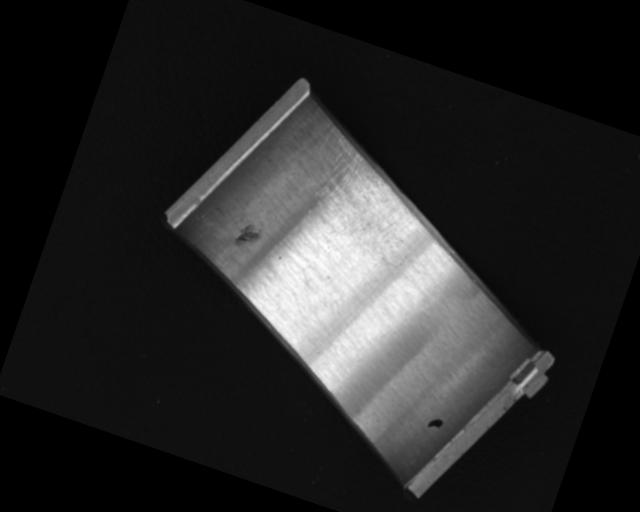blot: (425, 415, 445, 433)
bruise: (232, 219, 265, 250)
scratch: (294, 124, 428, 252)
